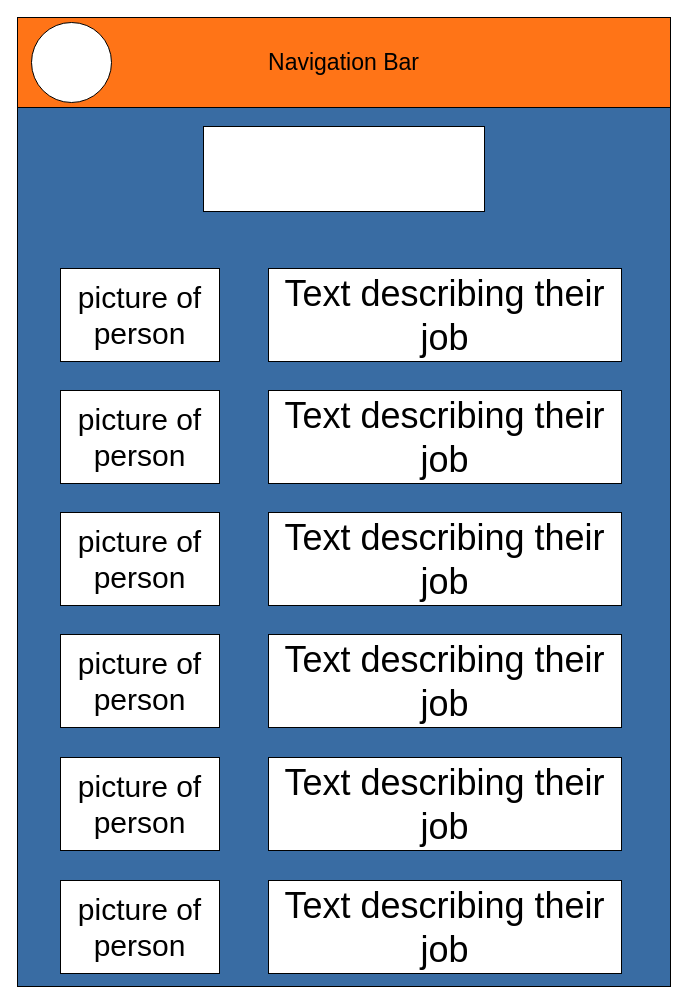
The diagram is 688 pixels wide and 1004 high, and some of its shapes have lost their labels. Here are the shapes that lost their labels. From the top down, the centre of each, then its label:
At (71,62): "Logo".
At (343,169): "About Us".
